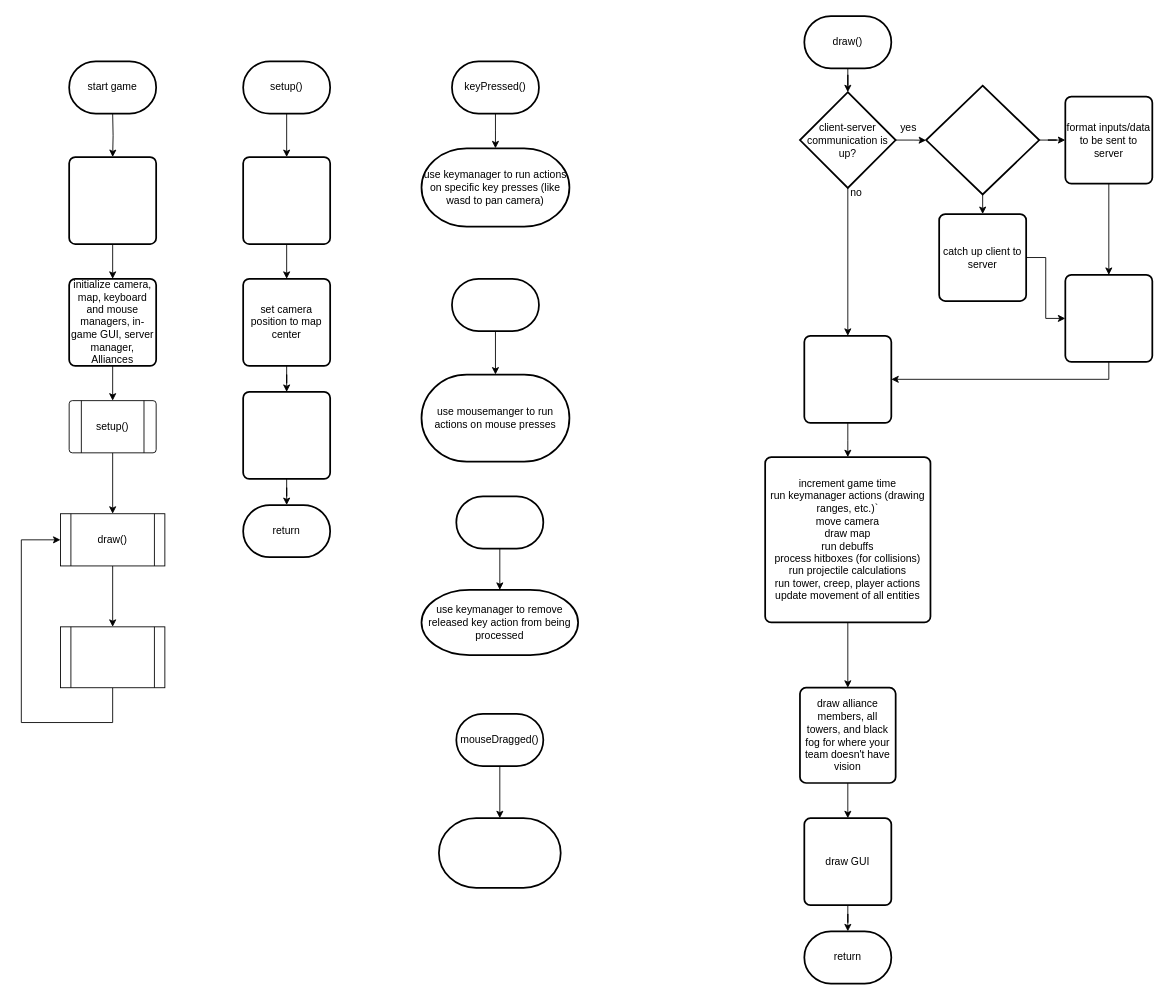
Image size: 1168x999. Some labels were removed from this diagram. The shapes that lost their labels are listed below. From the top down, each one's centre as x and y in pixels, then its label:
point (982, 139): client is caught up?
point (112, 200): import classes and processing library 'net'
point (286, 200): set framerate (and server tick rate), screen size, load map
point (495, 304): mousePressed()
point (1108, 318): send data to server
point (847, 379): draw background
point (286, 435): connect to server on port 5204 (ip should be changed to the server's)
point (499, 522): keyReleased
point (112, 657): keyPressed() keyReleased() mousePressed() mouseDragged()
point (499, 852): use mousemanager to detect middle click for camera panning
